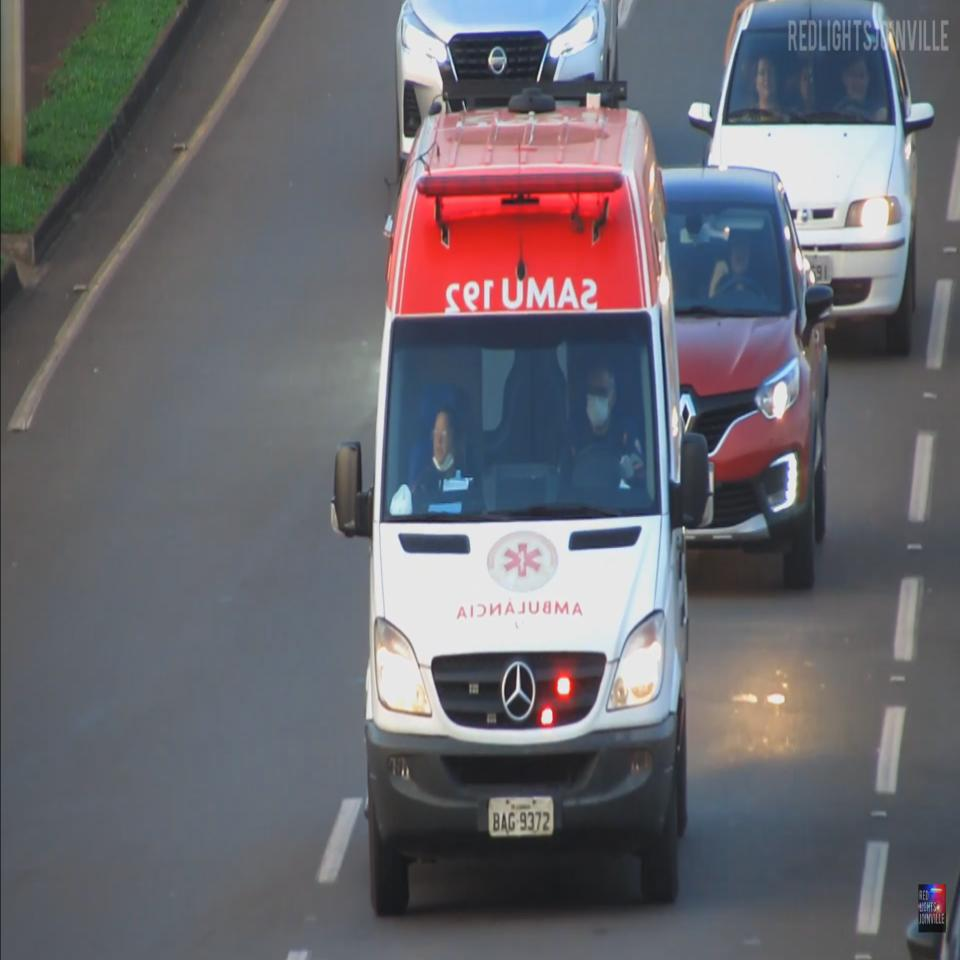bombeiro: (332, 89, 713, 922)
